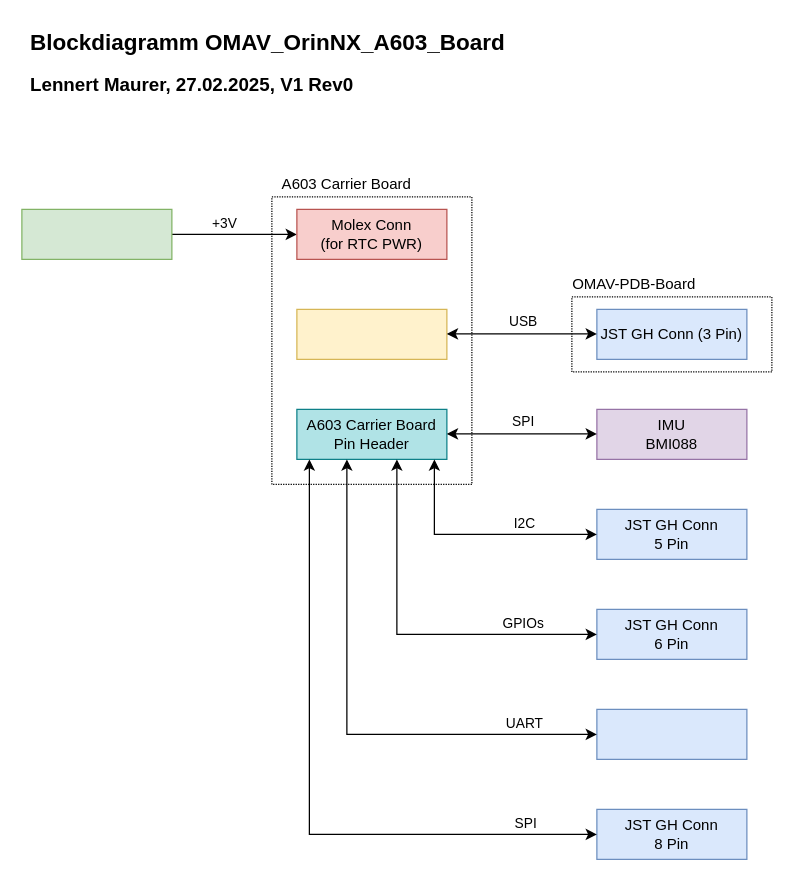
Some shapes in this 794 by 881 pixel diagram are drawn without their labels. The shapes that lost their labels are listed below. From the top down, each one's centre as x and y in pixels, then its label:
(96,233): Lithium Battery Connector (Clip)
(371,333): A603 Carrier Board Ribbon Cable Conn
(671,733): JST GH Conn 7 Pin
